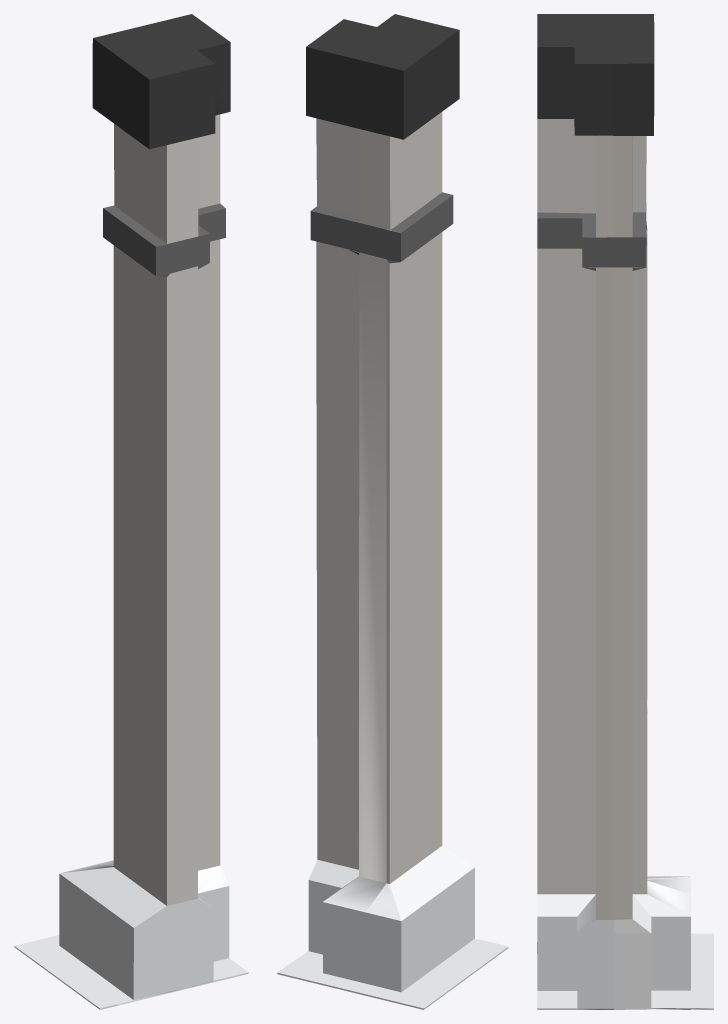
Rendered from Wall-Corner.fbx.
3 views of the same model, side by side, from view 1: azimuth 30°, elevation 25°; view 2: azimuth 150°, elevation 25°; view 3: azimuth 270°, elevation 25° (orthographic). The views are drawn at different scales.
Parts seen in each view (by area): view 1: Corner; view 2: Corner; view 3: Corner.
Part boxes in pixels (box(x1,y1,x2,y2)): Corner: box(14, 14, 248, 1009); Corner: box(277, 14, 508, 1009); Corner: box(537, 14, 713, 1009).
Size of the model in its own units: 1.53 by 1.52 by 9.
